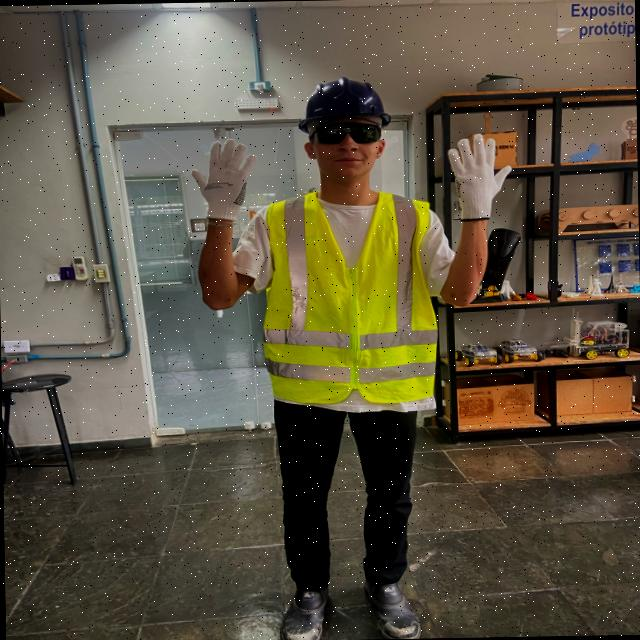BOTA: (354, 574, 428, 634), (283, 579, 329, 639)
CAPACETE: (299, 72, 402, 127)
COLETE: (256, 188, 443, 404)
LUVA: (193, 132, 265, 222), (447, 133, 517, 223)
OCULOS: (313, 121, 388, 147)
